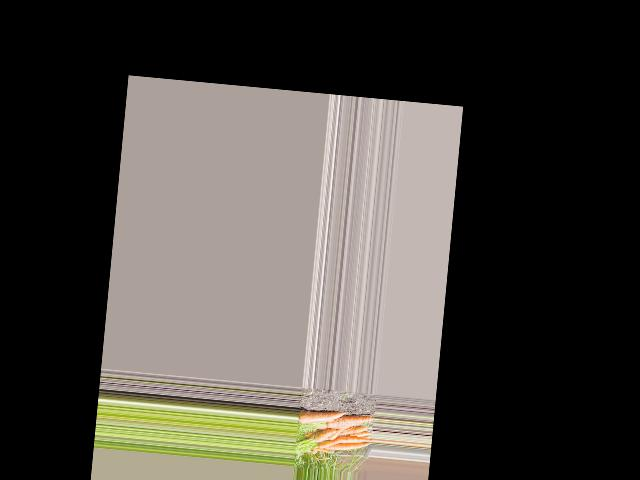carrot: (316, 434, 372, 453)
